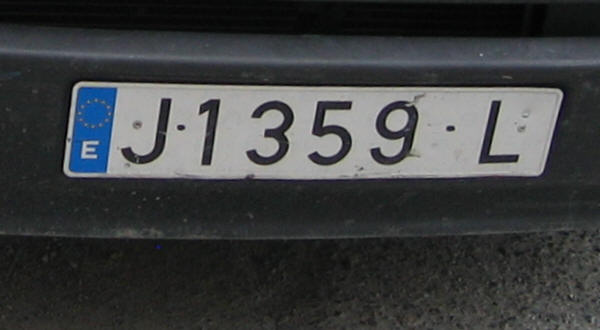license_plate: (60, 79, 564, 179)
